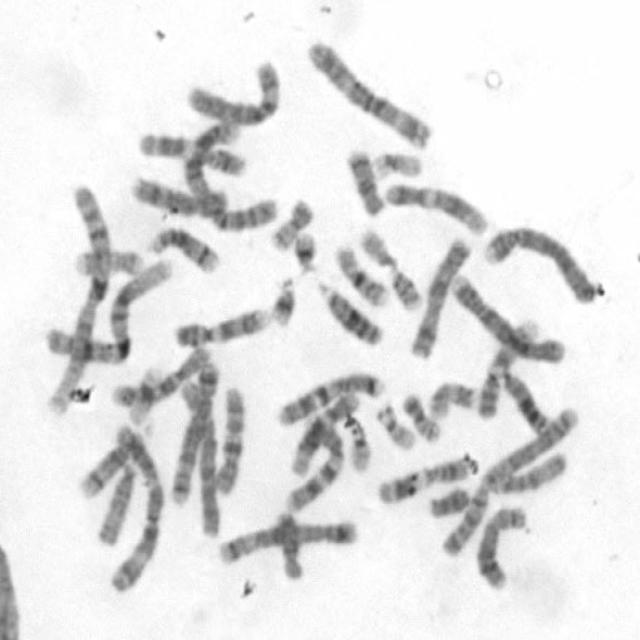A1: (43, 178, 114, 418), (41, 252, 175, 370)
A2: (437, 400, 580, 560), (181, 116, 280, 232)
A3: (300, 32, 434, 151), (103, 422, 167, 597)
B4: (448, 268, 569, 366), (481, 219, 598, 306)
B5: (165, 357, 222, 508), (214, 515, 360, 567)
C10: (109, 342, 214, 410), (212, 381, 246, 496)
C11: (134, 126, 250, 178), (374, 450, 478, 504)
C12: (285, 386, 360, 481), (380, 177, 490, 236)
C6: (181, 54, 284, 126), (178, 380, 223, 540)
C7: (281, 396, 347, 512), (274, 366, 388, 428)
C8: (472, 500, 530, 592), (127, 172, 228, 220)
C9: (474, 314, 540, 419), (172, 301, 272, 349)
D13: (314, 276, 385, 348), (497, 368, 552, 436)
D14: (77, 425, 146, 500), (144, 220, 222, 274)
D15: (486, 445, 571, 496), (92, 457, 138, 547)
E16: (358, 225, 426, 315), (330, 235, 390, 308)
E17: (70, 243, 144, 279), (426, 376, 478, 421)
E18: (342, 145, 385, 217), (271, 505, 307, 582)
F19: (124, 360, 164, 427), (368, 146, 423, 182)
F20: (266, 193, 316, 253), (398, 388, 443, 443)
G21: (267, 271, 298, 327), (290, 227, 320, 273)
G22: (373, 399, 417, 451), (341, 409, 372, 474)
X: (407, 233, 472, 362)
Y: (424, 481, 473, 519)
